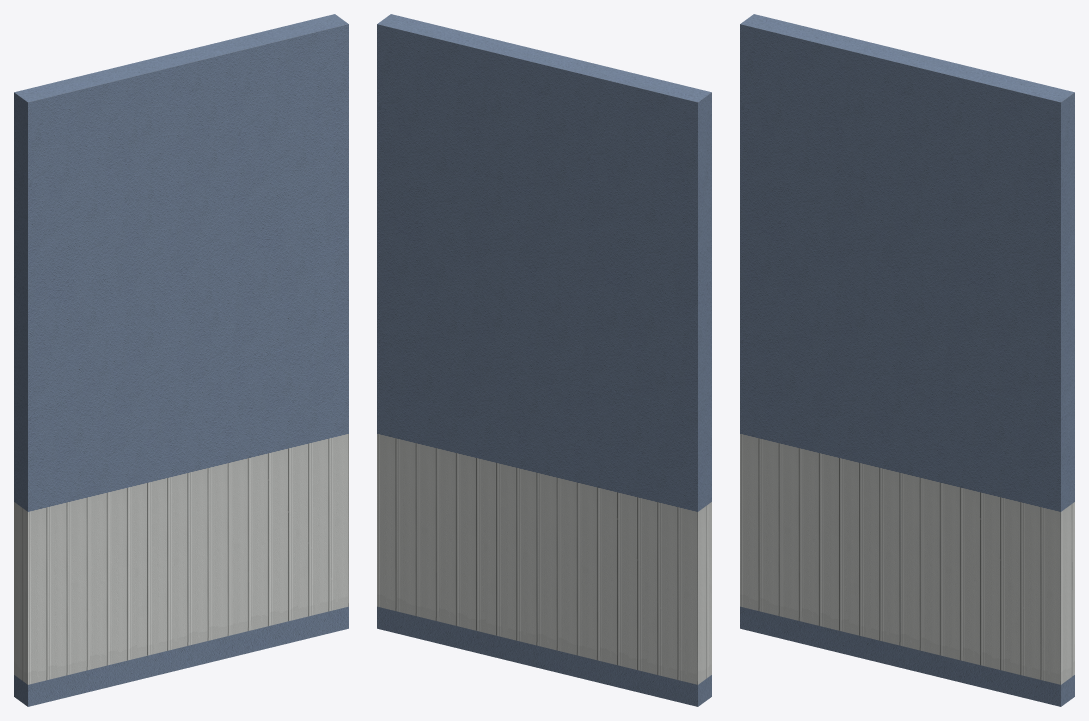
Rendered from ARC0210058.fbx.
The picture shows the model from 3 angles, left to right: view 1: azimuth 30°, elevation 25°; view 2: azimuth 150°, elevation 25°; view 3: azimuth 330°, elevation 25°; orthographic projection.
Parts seen in each view (by area): view 1: smARC0210058; view 2: smARC0210058; view 3: smARC0210058.
Part boxes in pixels (box(x1,y1,x2,y2)): smARC0210058: box(14, 14, 348, 706); smARC0210058: box(377, 14, 711, 706); smARC0210058: box(740, 14, 1074, 706).
Size of the model in its own units: 182 by 328 by 13.67.
Materials: 1 (1 with a texture image).
